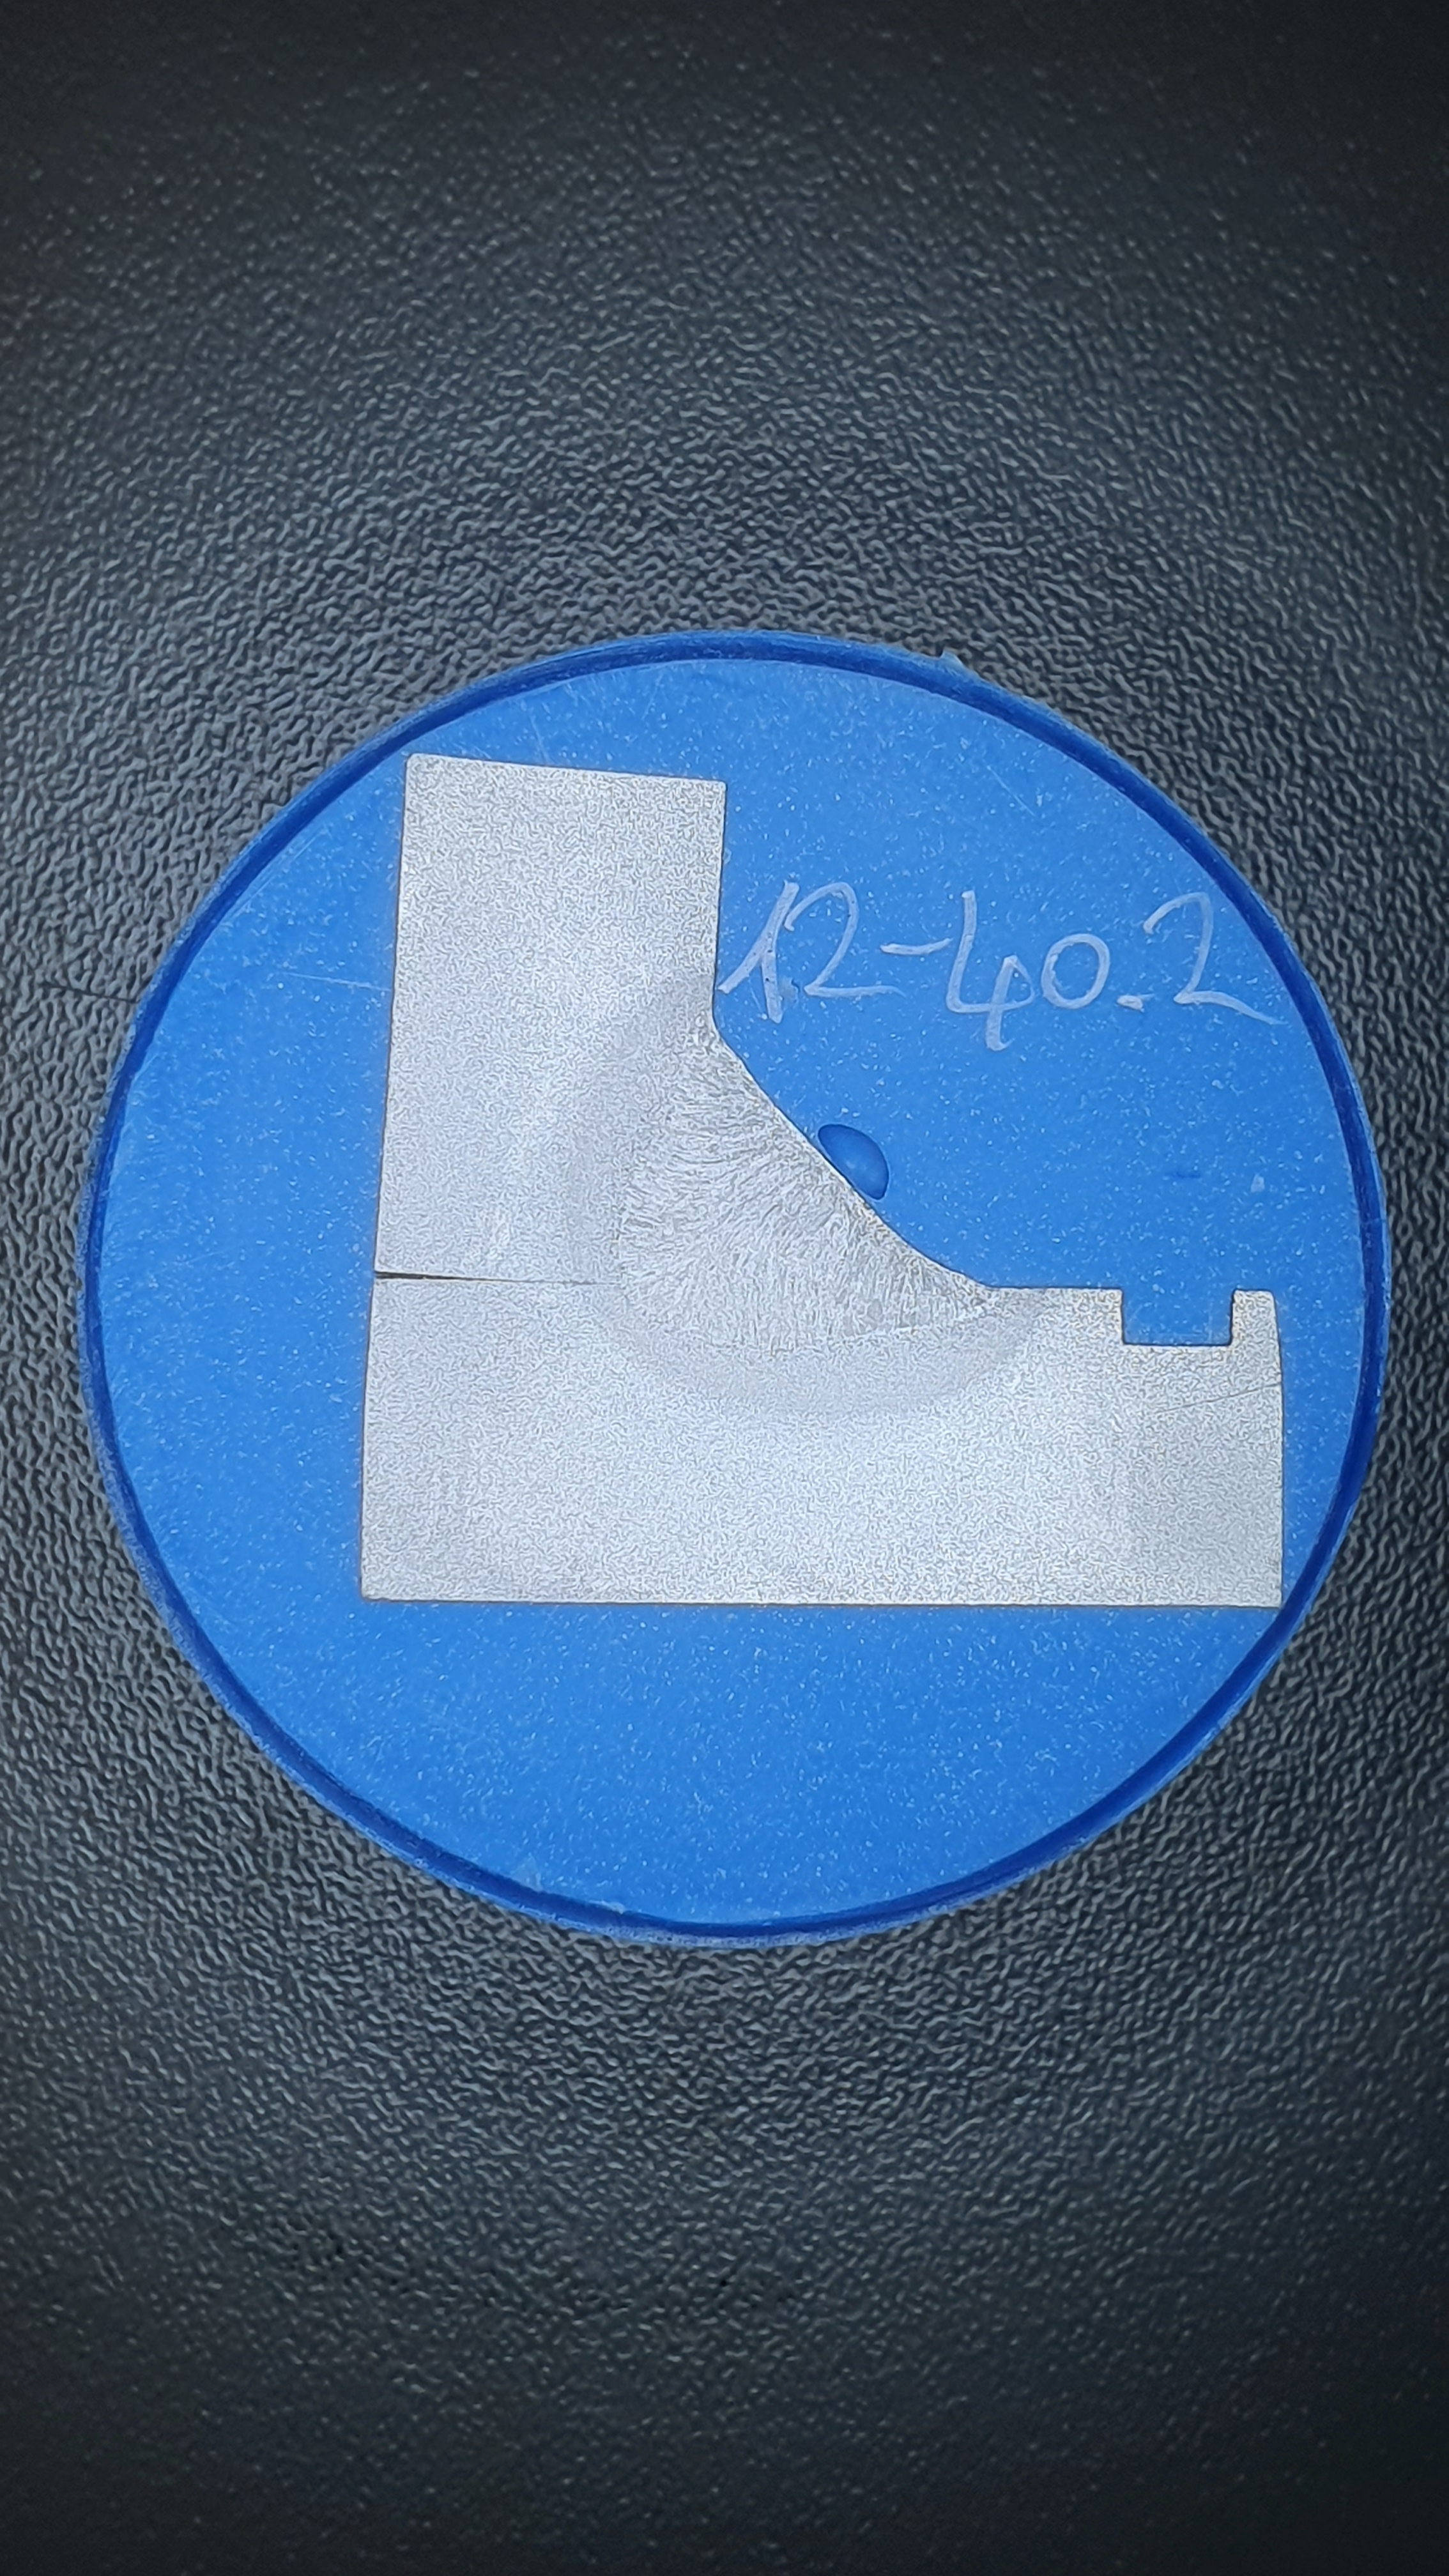Fusion: (607, 1026, 1010, 1353)
Hintergrund: (101, 658, 1362, 1927)
Metall: (361, 752, 1284, 1608)
Nebenbereich: (529, 957, 1053, 1417)
